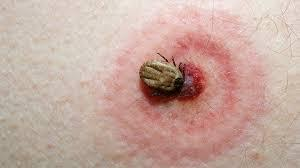Tick: (114, 25, 245, 158)
